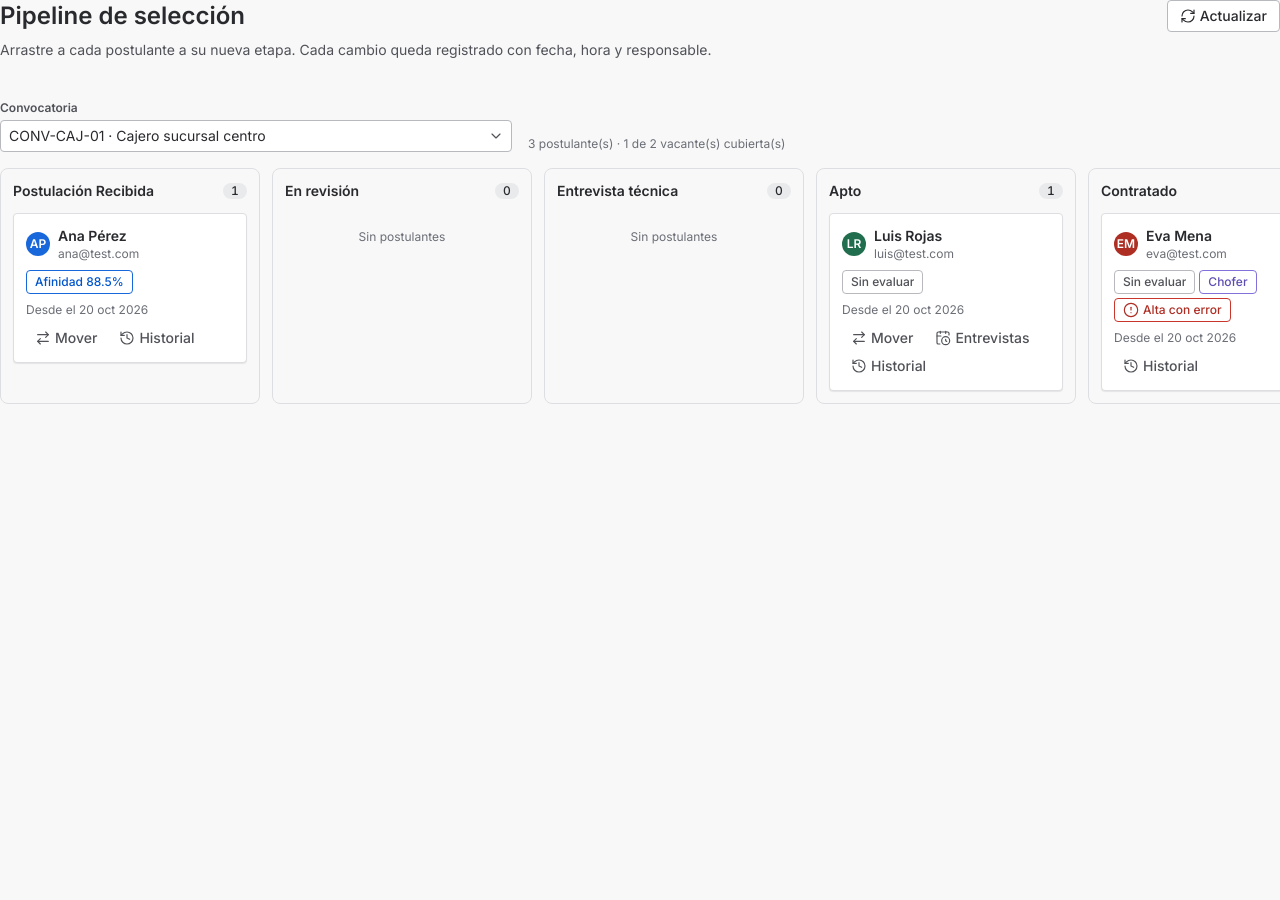
Test: Formalización de la contratación › desde «Mover», elegir «Contratado» pasa a la formalización
Step 1. Click the button "Mover" below "luis@test.com" → [882, 338], box [842, 326, 922, 350]
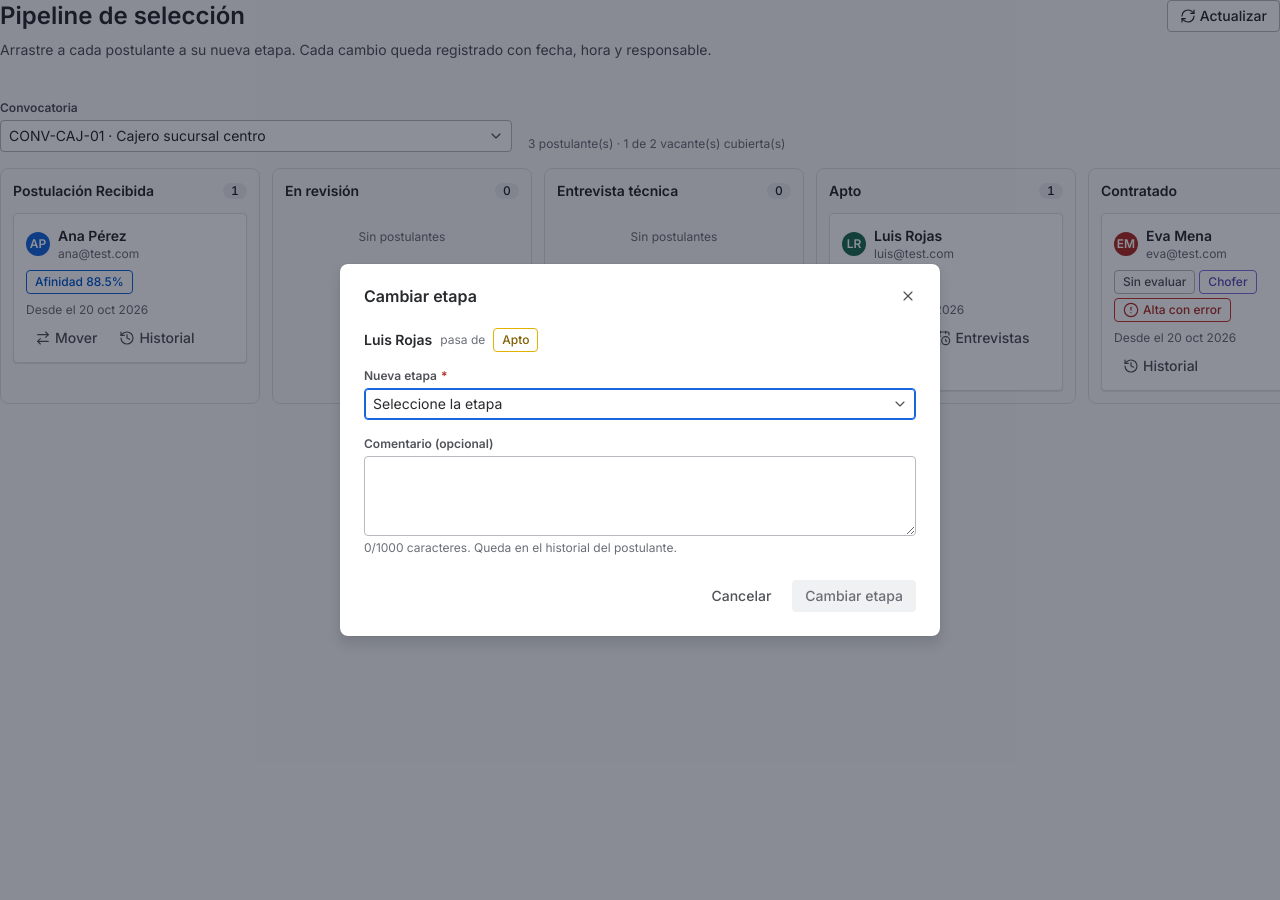
Step 2. Select "Contratado (formalizar contratación)" in the dropdown labelled "Nueva etapa *" → [640, 404], box [364, 388, 916, 420]
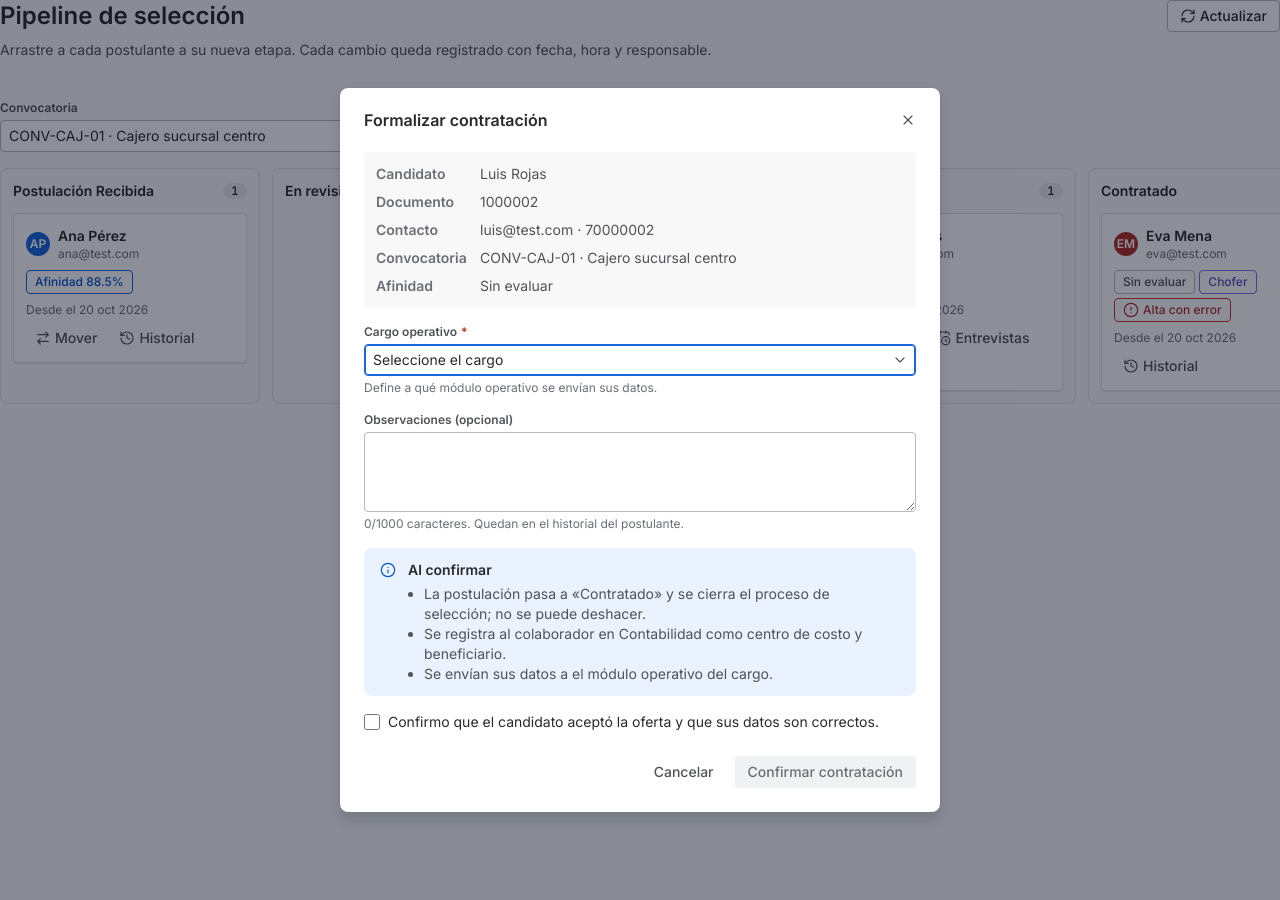
Check: the dialog "Formalizar contratación" is shown, box [340, 88, 940, 812]
